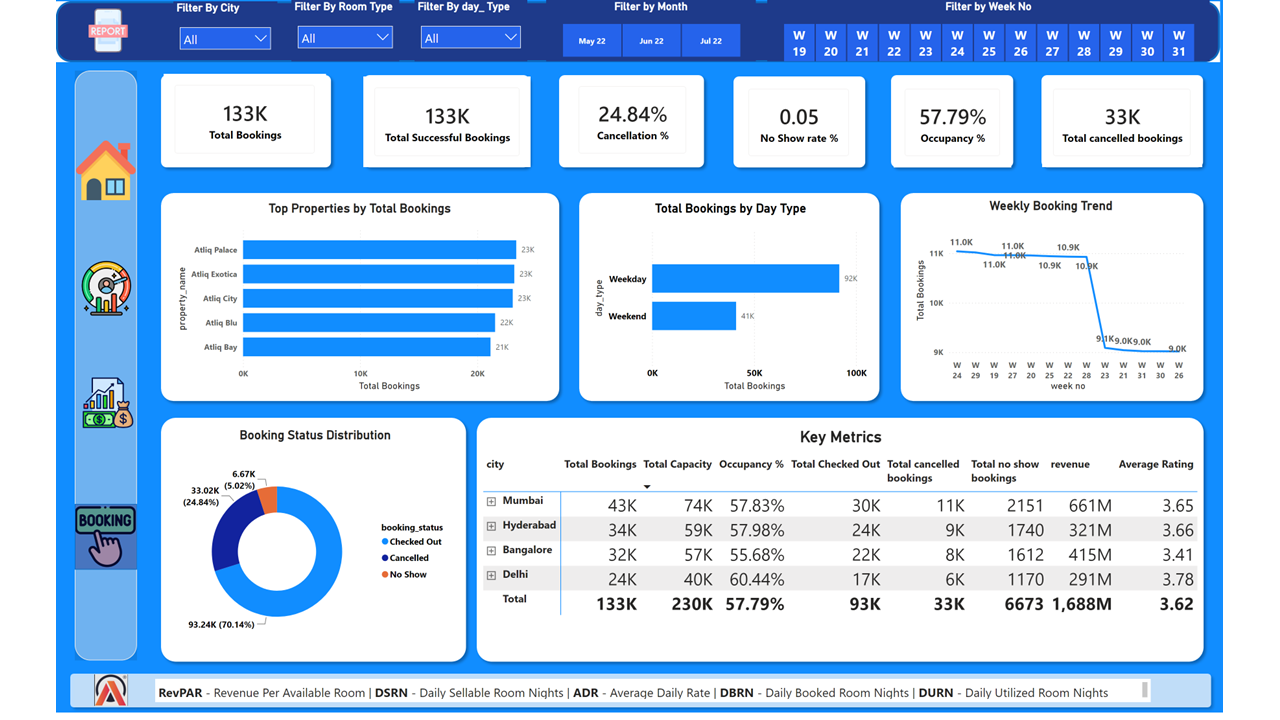

What the dashboard file says about the page in this screenshot:
{"tool":"powerbi","page":{"name":"Booking Overview","canvas":[1800,1100],"ordinal":4},"visuals":[{"type":"shape","box":[1511.4,106.9,267.3,160.4],"z":0},{"type":"shape","box":[1279.2,106.9,206.4,160.4],"z":1000},{"type":"shape","box":[1035.9,108.7,221.2,158.5],"z":2000},{"type":"shape","box":[766.8,106.9,241.5,160.4],"z":3000},{"type":"shape","box":[466.3,106.9,272.8,160.4],"z":4000},{"type":"shape","box":[153,106.9,280.2,160.4],"z":5000},{"type":"shape","box":[1293.9,289.4,484.8,339.1],"z":6000},{"type":"shape","box":[798.1,289.4,481.1,339.1],"z":7000},{"type":"shape","box":[153,289.4,632.2,339.1],"z":8000},{"type":"shape","box":[639.6,635.9,1139.1,394.4],"z":9000},{"type":"shape","box":[153,635.9,488.4,394.4],"z":10000},{"type":"shape","box":[0,1.8,1795.3,94],"z":11000},{"type":"slicer","title":"Filter by Week No","fields":{"Values":["dim_date.week no"]},"box":[1096.7,0,682.7,94.6],"z":12000},{"type":"slicer","title":"Filter by Month","fields":{"Values":["dim_date.mmm yy"]},"box":[755.7,0,323.4,94.6],"z":13000},{"type":"slicer","title":"Filter By City","fields":{"Values":["dim_hotels.city"]},"box":[180.6,1.8,160.4,90.3],"z":14000},{"type":"slicer","title":"Filter By Room Type","fields":{"Values":["dim_rooms.room_class"]},"box":[363.1,0,166.4,94.6],"z":15000},{"type":"shape","box":[13.2,1030.7,1777.7,70],"z":16000},{"type":"image","box":[46.8,1041.1,75.2,48.8],"z":17000},{"type":"textbox","box":[153.2,1047.7,1535.6,35.9],"z":18000},{"type":"slicer","title":"Filter By day_ Type","fields":{"Values":["dim_date.day_type"]},"box":[553,0,174,94.6],"z":19000},{"type":"image","title":"Report Switch","box":[22.1,12.9,117.3,68.1],"z":20000},{"type":"group","id":"g1","title":"Menu","box":[81.1,91.5,544.7,102.3],"z":21000},{"type":"clusteredBarChart","title":"Total Bookings by Day Type","fields":{"Category":["dim_date.day_type"],"Y":["key_measures.Total Bookings"]},"box":[823.9,309.7,433.1,298.6],"z":22000},{"type":"cardVisual","fields":{"Data":["key_measures.Total Bookings"]},"box":[165.9,114.3,250.7,140.1],"z":23000},{"type":"cardVisual","fields":{"Data":["key_measures.Total cancelled bookings"]},"box":[1520.6,119.8,247,138.2],"z":24000},{"type":"cardVisual","fields":{"Data":["key_measures.Total Successful Bookings"]},"box":[473.7,118,258,140.1],"z":25000},{"type":"cardVisual","fields":{"Data":["key_measures.Cancellation %"]},"box":[788.9,116.1,200.9,138.2],"z":26000},{"type":"cardVisual","fields":{"Data":["key_measures.No Show rate %"]},"box":[1050.6,119.8,189.8,138.2],"z":27000},{"type":"cardVisual","fields":{"Data":["key_measures.Occupancy %"]},"box":[1292.1,119.8,181.6,138.7],"z":28000},{"type":"donutChart","title":"Booking Status Distribution","fields":{"Category":["fact_bookings.booking_status"],"Y":["CountNonNull(fact_bookings.booking_id)"]},"box":[175.1,659.9,449.7,350.2],"z":29000},{"type":"barChart","title":"Top Properties by Total Bookings","fields":{"Category":["dim_hotels.property_name"],"Y":["key_measures.Total Bookings"]},"box":[180.6,309.7,575.1,298.6],"z":30000},{"type":"pivotTable","title":"Key Metrics","fields":{"Rows":["dim_hotels.city","dim_hotels.category","dim_hotels.property_name"],"Values":["key_measures.Total Bookings","key_measures.Total Capacity","key_measures.Occupancy %","key_measures.Total Checked Out","key_measures.Total cancelled bookings","key_measures.Total no show bookings","key_measures.revenue","key_measures.Average Rating"]},"box":[654.3,659.9,1113.3,350.2],"z":31000},{"type":"shape","box":[29.5,108.7,95.8,910.5],"z":32000},{"type":"image","box":[29.5,217.5,95.8,92.2],"z":33000},{"type":"image","box":[27.6,401.8,99.5,86.6],"z":34000},{"type":"image","box":[35,582.4,90.3,79.3],"z":35000},{"type":"image","box":[29.5,777.8,94,101.4],"z":36000},{"type":"lineChart","title":"Weekly Booking Trend","fields":{"Category":["dim_date.week no"],"Y":["key_measures.Total Bookings"]},"box":[1319.7,306,429.5,302.3],"z":37000},{"type":"shape","box":[29.5,777.8,95.8,101.4],"z":37001}]}

Visuals, with their boxes on the page's 1800x1100 design canvas (x1, y1, x2, y2). These are canvas units, not pixel positions in the 1280x720 screenshot, which may show the page scaled, cropped or inside an application window:
shape: 1511:107:1779:267
shape: 1279:107:1486:267
shape: 1036:109:1257:267
shape: 767:107:1008:267
shape: 466:107:739:267
shape: 153:107:433:267
shape: 1294:289:1779:628
shape: 798:289:1279:628
shape: 153:289:785:628
shape: 640:636:1779:1030
shape: 153:636:641:1030
shape: 0:2:1795:96
"Filter by Week No" slicer: 1097:0:1779:95
"Filter by Month" slicer: 756:0:1079:95
"Filter By City" slicer: 181:2:341:92
"Filter By Room Type" slicer: 363:0:530:95
shape: 13:1031:1791:1101
image: 47:1041:122:1090
textbox: 153:1048:1689:1084
"Filter By day_ Type" slicer: 553:0:727:95
"Report Switch" image: 22:13:139:81
"Menu" group: 81:92:626:194
"Total Bookings by Day Type" clusteredBarChart: 824:310:1257:608
cardVisual - key_measures.Total Bookings: 166:114:417:254
cardVisual - key_measures.Total cancelled bookings: 1521:120:1768:258
cardVisual - key_measures.Total Successful Bookings: 474:118:732:258
cardVisual - key_measures.Cancellation %: 789:116:990:254
cardVisual - key_measures.No Show rate %: 1051:120:1240:258
cardVisual - key_measures.Occupancy %: 1292:120:1474:258
"Booking Status Distribution" donutChart: 175:660:625:1010
"Top Properties by Total Bookings" barChart: 181:310:756:608
"Key Metrics" pivotTable: 654:660:1768:1010
shape: 30:109:125:1019
image: 30:218:125:310
image: 28:402:127:488
image: 35:582:125:662
image: 30:778:124:879
"Weekly Booking Trend" lineChart: 1320:306:1749:608
shape: 30:778:125:879
